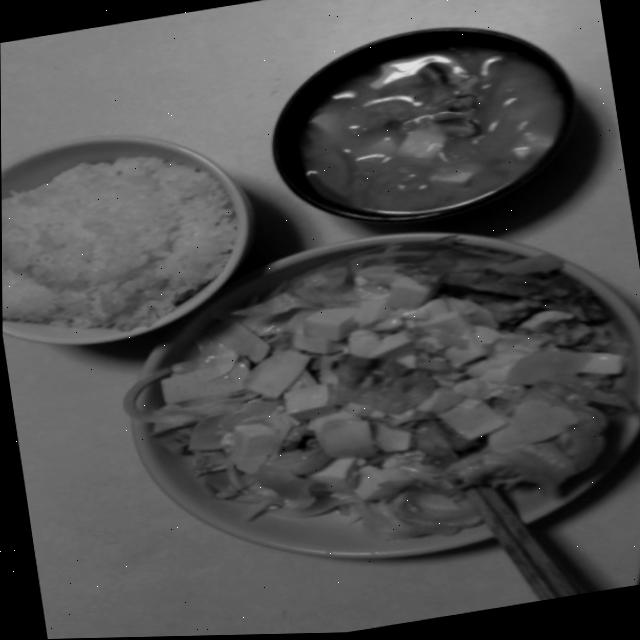米饭主食: (1, 101, 280, 378)
